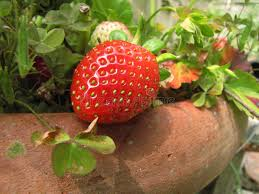ripe: (69, 39, 159, 124)
unripe: (88, 26, 136, 48)
